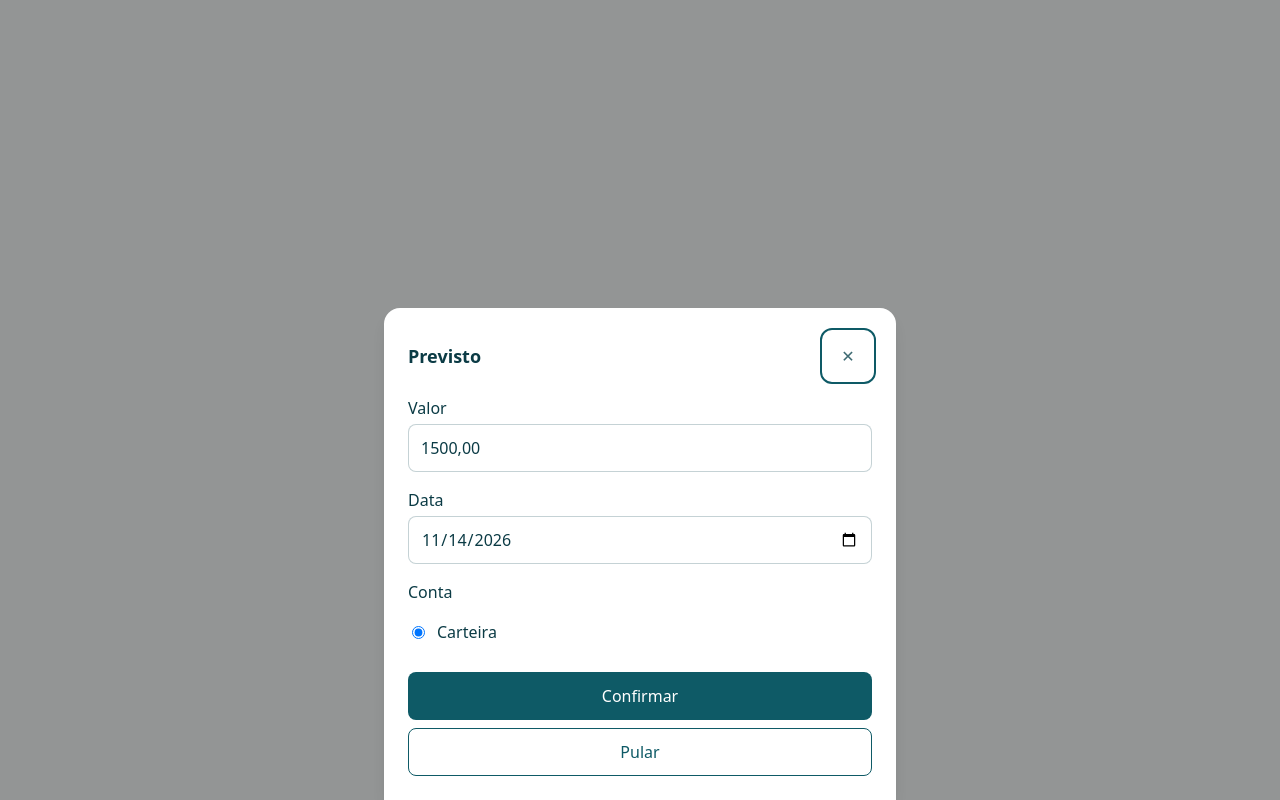
Test: PlannedSheet › skips, says so, and Desfazer restores it
This screenshot has width=1280, height=800.
Later steps or results of the test are not shown.
Click the button "Pular": {"x": 640, "y": 752} left=408, top=728, right=872, bottom=776
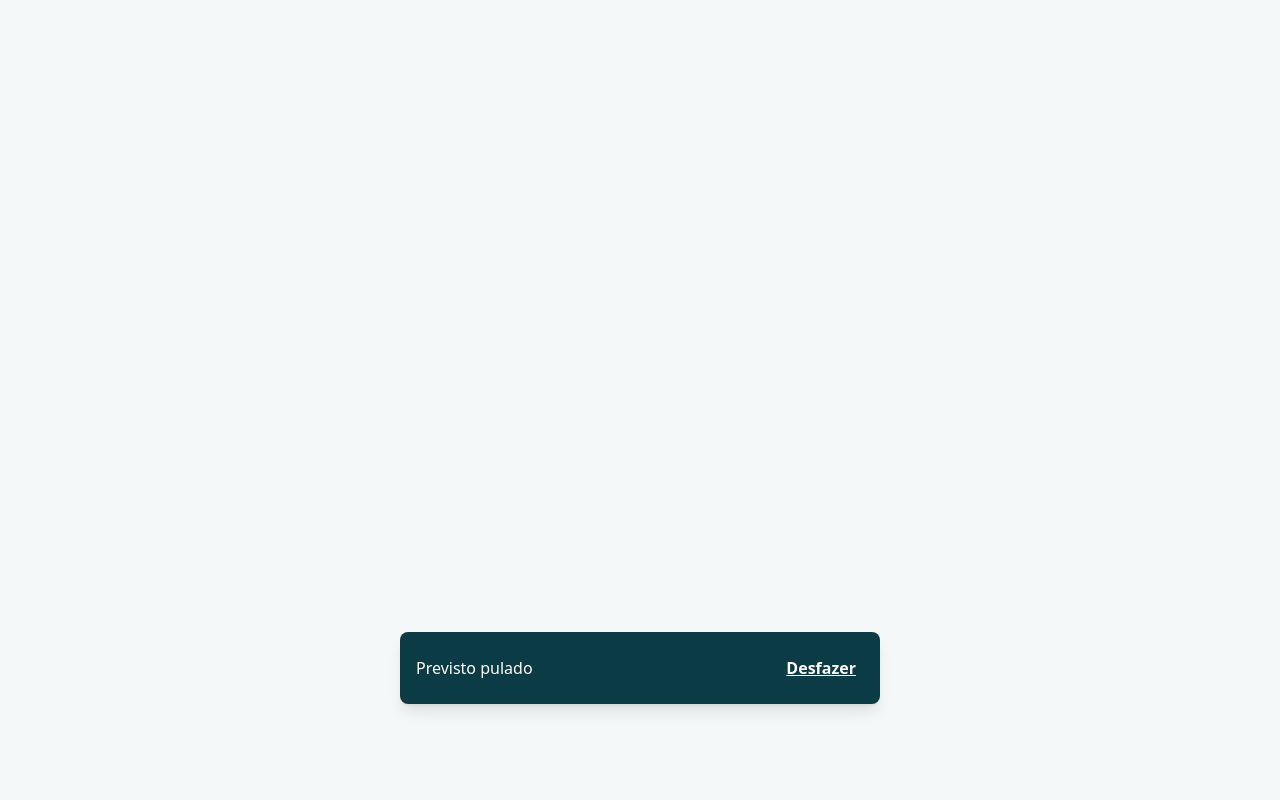
Now the text "Previsto pulado" is shown, box left=416, top=656, right=533, bottom=680
